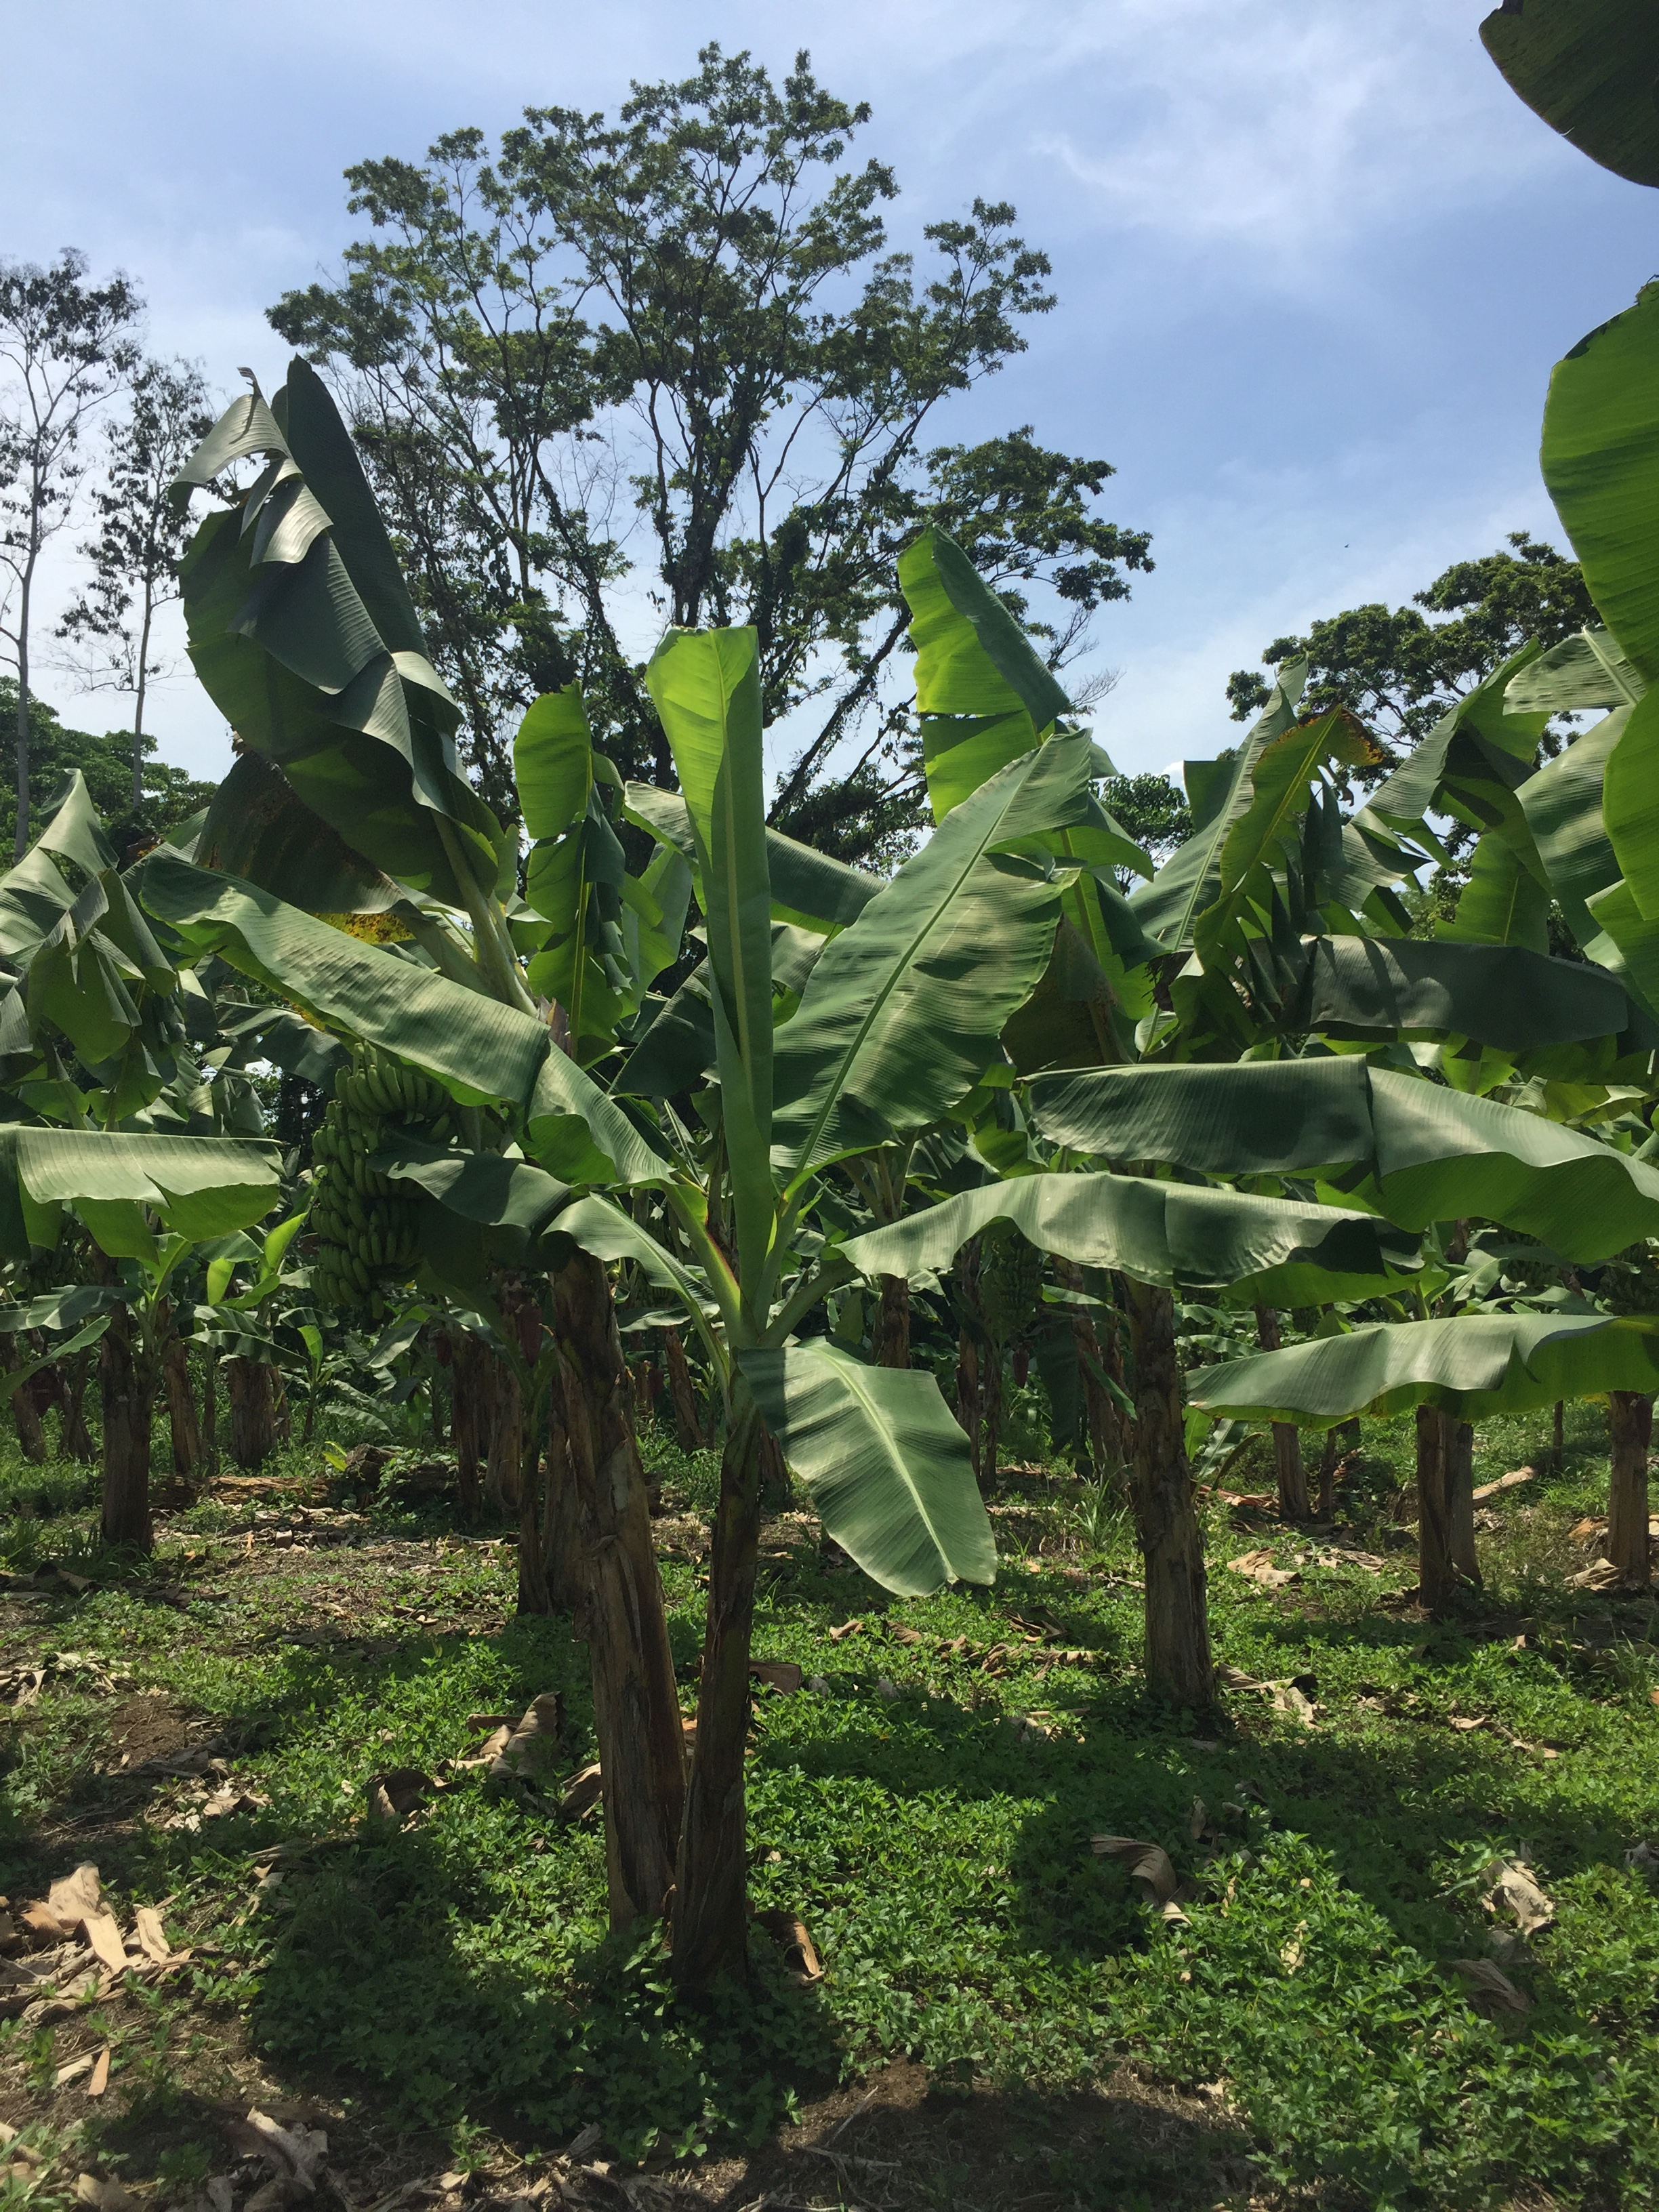candleleafs: (643, 620, 772, 1324)
